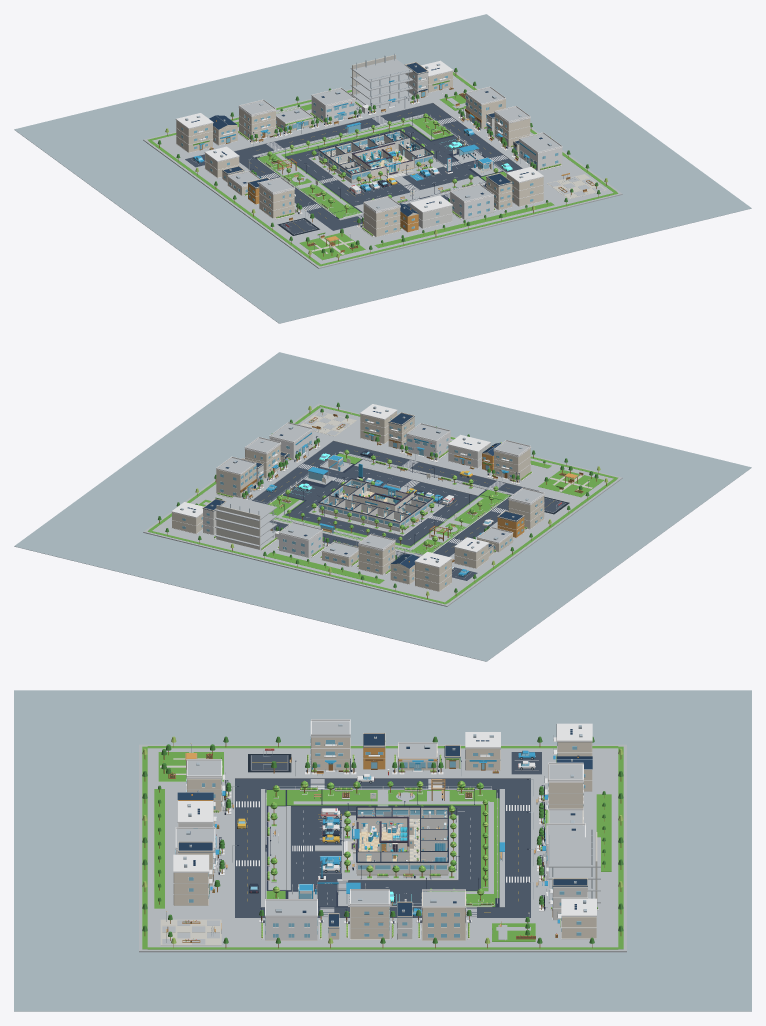
File: town.glb
3 renders of one model, top to bottom at view 1: azimuth 30°, elevation 25°; view 2: azimuth 150°, elevation 25°; view 3: azimuth 270°, elevation 25°, orthographic. The views are drawn at different scales.
Parts seen in each view (by area): view 1: HX_ground, HX_pavement, HX_white, HX_asphalt, HX_cream, HX_green, HX_wall, HX_glass, HX_steel, HX_navy, HX_tile, HX_blue (+6 smaller); view 2: HX_ground, HX_pavement, HX_white, HX_asphalt, HX_cream, HX_green, HX_wall, HX_tile, HX_glass, HX_navy, HX_steel, HX_leaf (+6 smaller); view 3: HX_ground, HX_pavement, HX_asphalt, HX_green, HX_white, HX_cream, HX_wall, HX_glass, HX_navy, HX_leaf, HX_tile, HX_darkblue (+6 smaller).
Boxes of the visible parts, x1,y1,x2,y2 form: HX_ground: [14, 14, 751, 323]; HX_pavement: [143, 59, 622, 268]; HX_white: [175, 60, 570, 242]; HX_asphalt: [185, 103, 522, 234]; HX_cream: [176, 62, 543, 236]; HX_green: [147, 72, 618, 266]; HX_wall: [318, 72, 494, 228]; HX_glass: [181, 75, 558, 232]; HX_steel: [185, 53, 586, 253]; HX_navy: [250, 92, 536, 227]; HX_tile: [228, 54, 606, 254]; HX_blue: [193, 80, 535, 191]; HX_ground: [14, 352, 751, 661]; HX_pavement: [143, 403, 622, 606]; HX_white: [171, 404, 588, 591]; HX_asphalt: [252, 441, 566, 580]; HX_cream: [172, 411, 544, 591]; HX_green: [147, 405, 618, 604]; HX_wall: [203, 444, 490, 534]; HX_tile: [216, 411, 592, 574]; HX_glass: [182, 418, 542, 586]; HX_navy: [243, 436, 519, 558]; HX_steel: [180, 406, 588, 576]; HX_leaf: [158, 402, 598, 592]; HX_ground: [14, 690, 751, 1011]; HX_pavement: [139, 721, 626, 952]; HX_asphalt: [235, 752, 541, 917]; HX_green: [142, 746, 623, 949]; HX_white: [166, 719, 598, 940]; HX_cream: [173, 733, 596, 940]; HX_wall: [178, 807, 587, 939]; HX_glass: [175, 737, 585, 937]; HX_navy: [218, 758, 545, 923]; HX_leaf: [142, 736, 623, 943]; HX_tile: [160, 752, 597, 945]; HX_darkblue: [177, 729, 592, 928].
Size of the model in its own units: 174 by 13.92 by 169.
